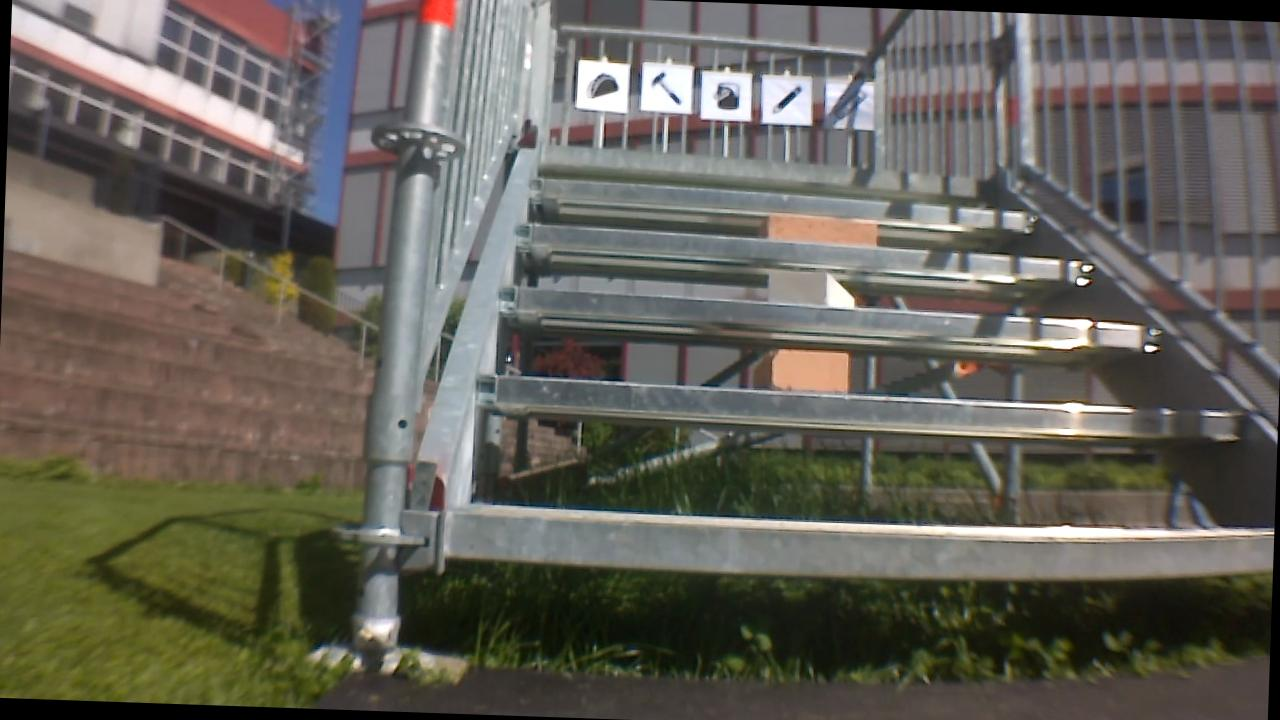brick: (748, 344, 851, 393), (762, 265, 867, 312), (758, 215, 881, 242)
bucket: (713, 76, 747, 111)
edge: (452, 496, 1274, 599), (480, 384, 1254, 436), (514, 221, 1094, 287), (499, 300, 1164, 351), (521, 180, 1040, 229), (535, 150, 1000, 186)
hammer: (644, 69, 685, 106)
pencil: (767, 81, 812, 115)
ruler: (829, 88, 865, 123)
steps: (418, 142, 1280, 590)
taco: (582, 67, 625, 102)
